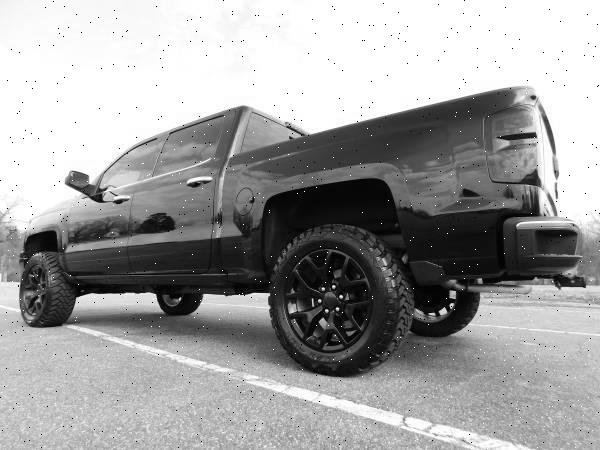Front_Fender: (26, 204, 75, 278)
Front_Left_Door: (66, 190, 138, 284)
Front_Left_Window: (76, 139, 160, 203)
Left_Taillight: (482, 105, 542, 188)
Rear_Bumper: (507, 212, 586, 275)
Rear_Fender: (221, 86, 541, 284)
Rear_Left_Door: (132, 169, 229, 284)
Rear_Left_Window: (143, 111, 241, 188), (228, 110, 311, 155)
Wheel: (268, 222, 412, 374), (15, 248, 75, 327), (412, 277, 480, 333), (155, 294, 203, 313)
